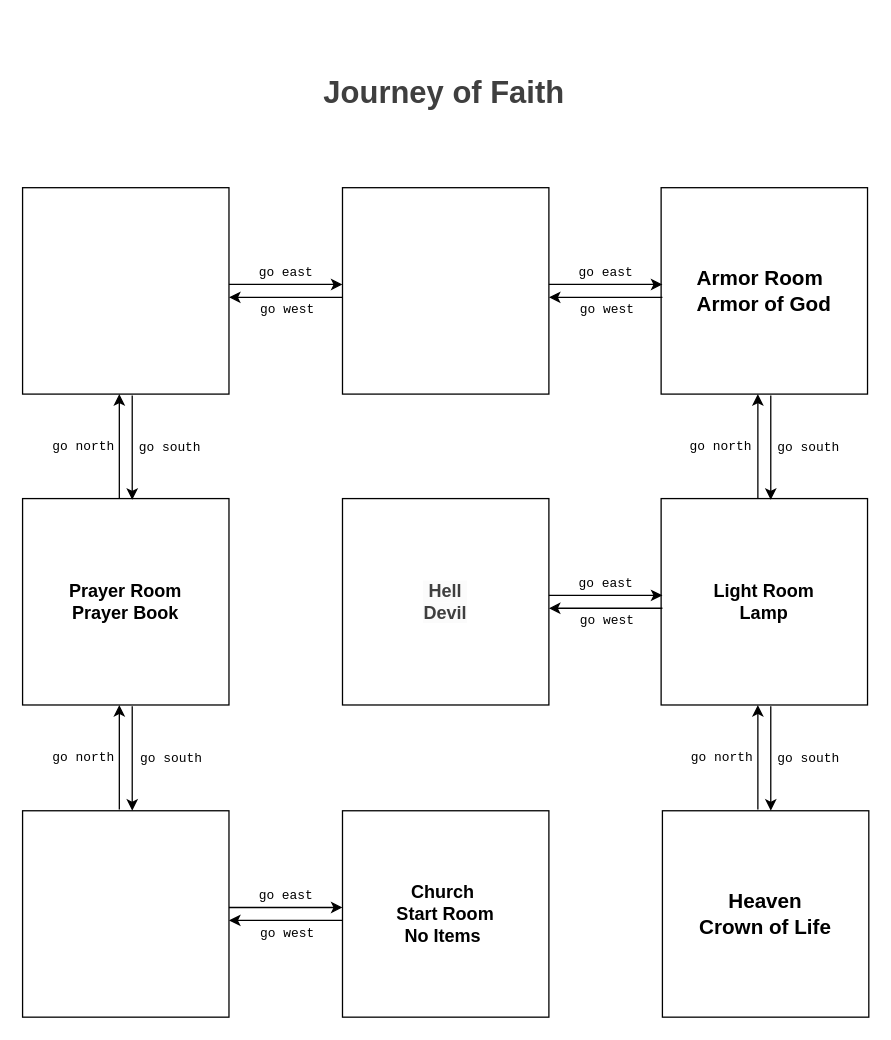
Image size: 891x1040. Some labels were removed from this diagram. The shapes that lost their labels are listed below. From the top down, each one's centre as x and y in pixels, then its label:
At point (125, 290): "Faith Room Shield of Faith".
At point (445, 290): "Worship Room Cross".
At point (125, 913): "Bible Study Room Bible".
